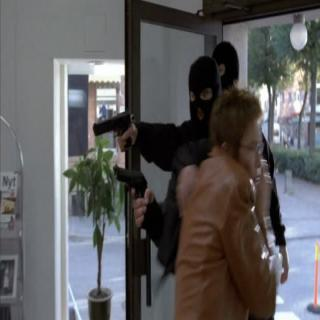gun: (88, 98, 134, 158), (111, 152, 154, 206)
